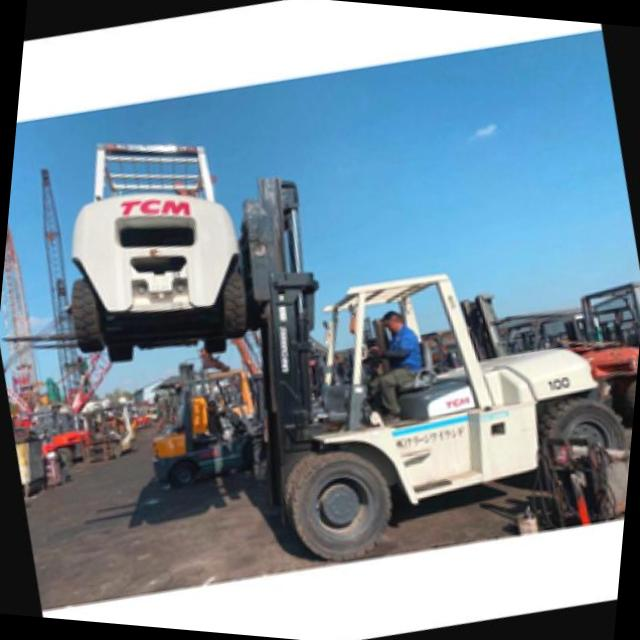driver: (351, 294, 452, 437)
forklift: (204, 195, 640, 604), (38, 156, 268, 378)
